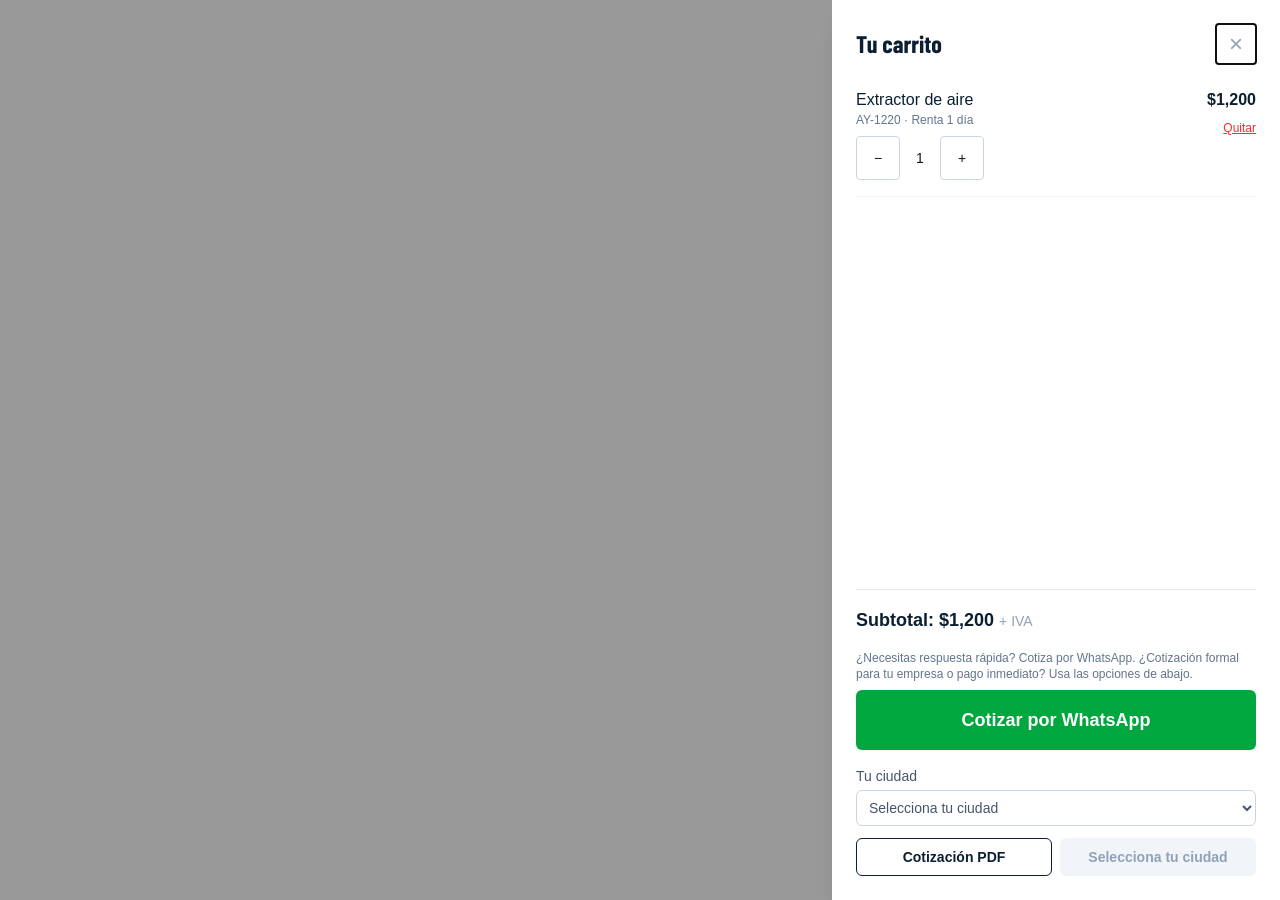
Test: Carrito › abre el flujo de cotización al hacer click en Cotización PDF
This screenshot has width=1280, height=900.
Click the button "Cotización PDF" at (954, 857), box [856, 838, 1052, 876]
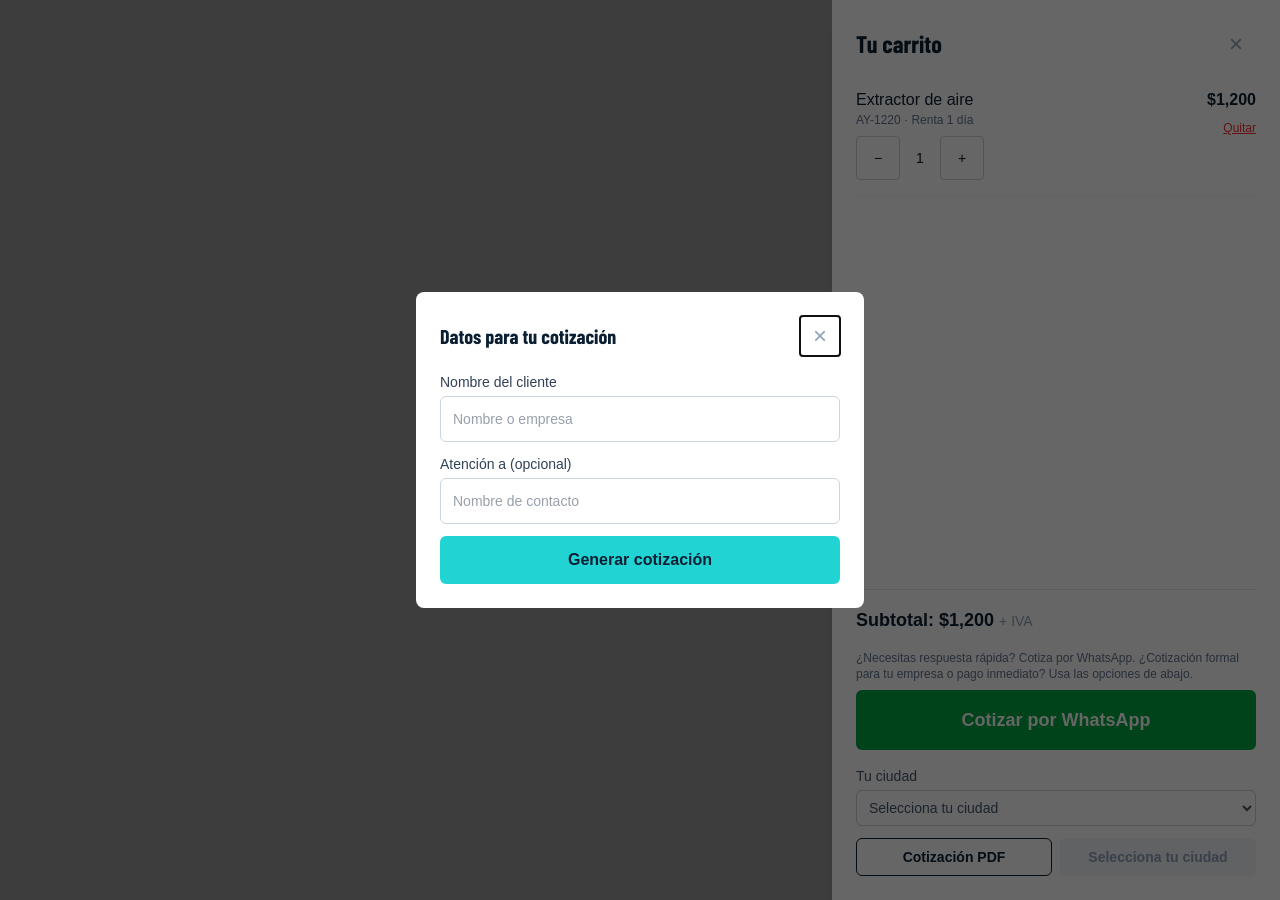
Expected: the heading "Datos para tu cotización" is shown, [440, 322, 616, 350]
